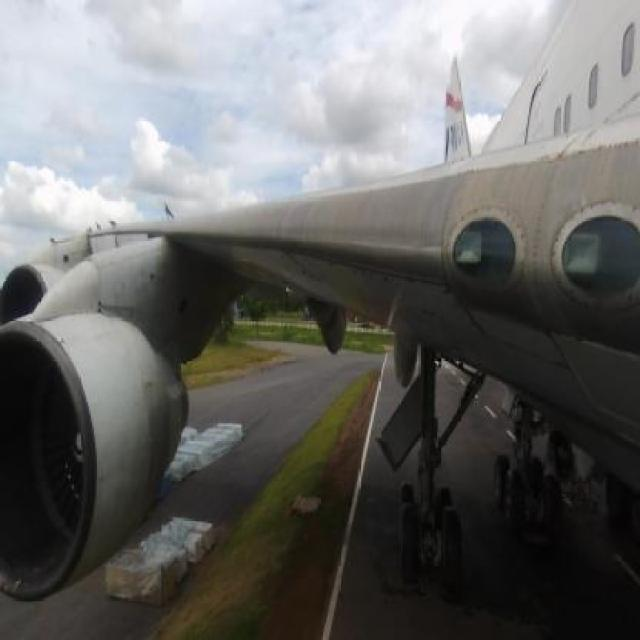Scartch: (290, 259, 444, 339)
